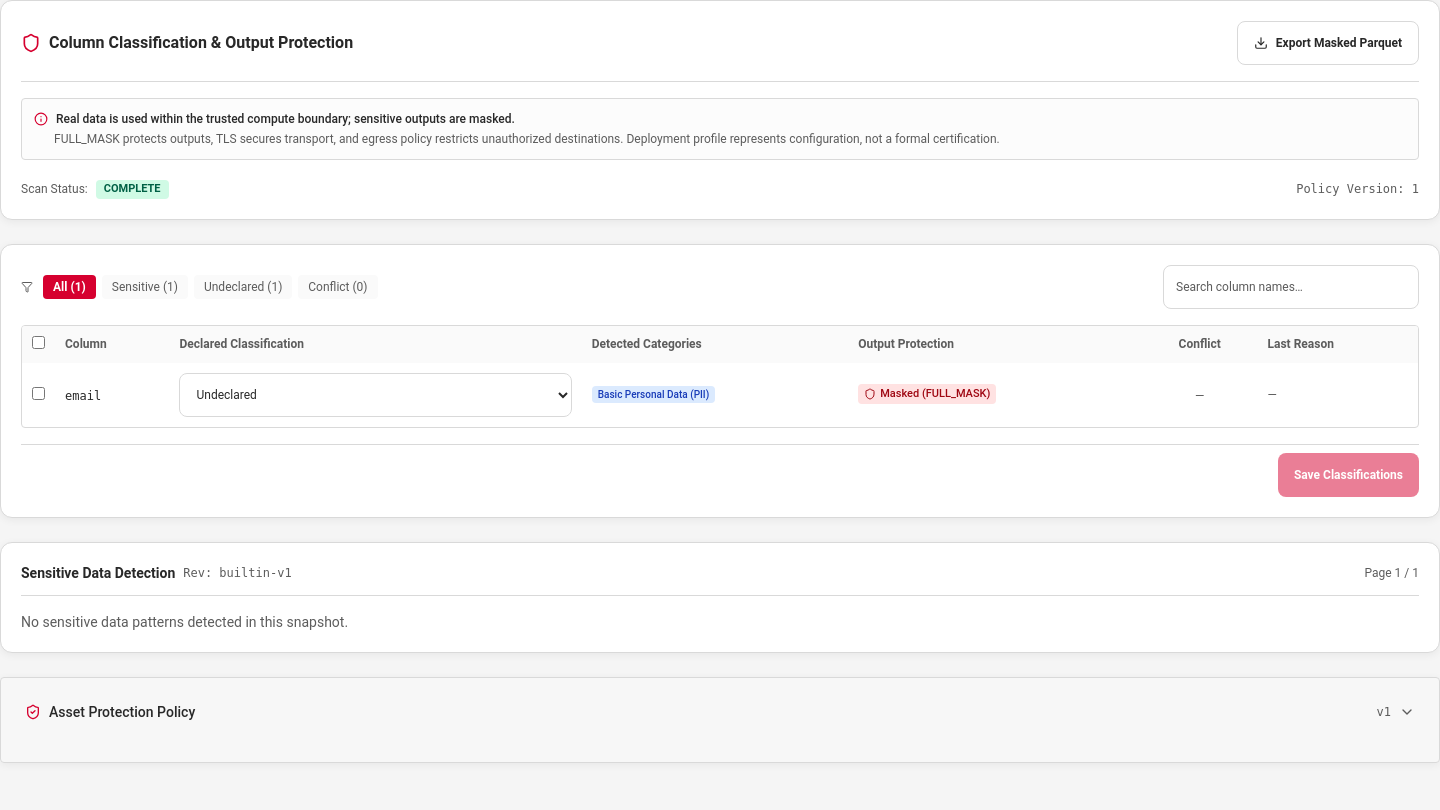
Scenario: surfaces version conflict alert and preserves draft changes
Click the checkbox named "Select email" at (38, 393), box [32,387,45,400]
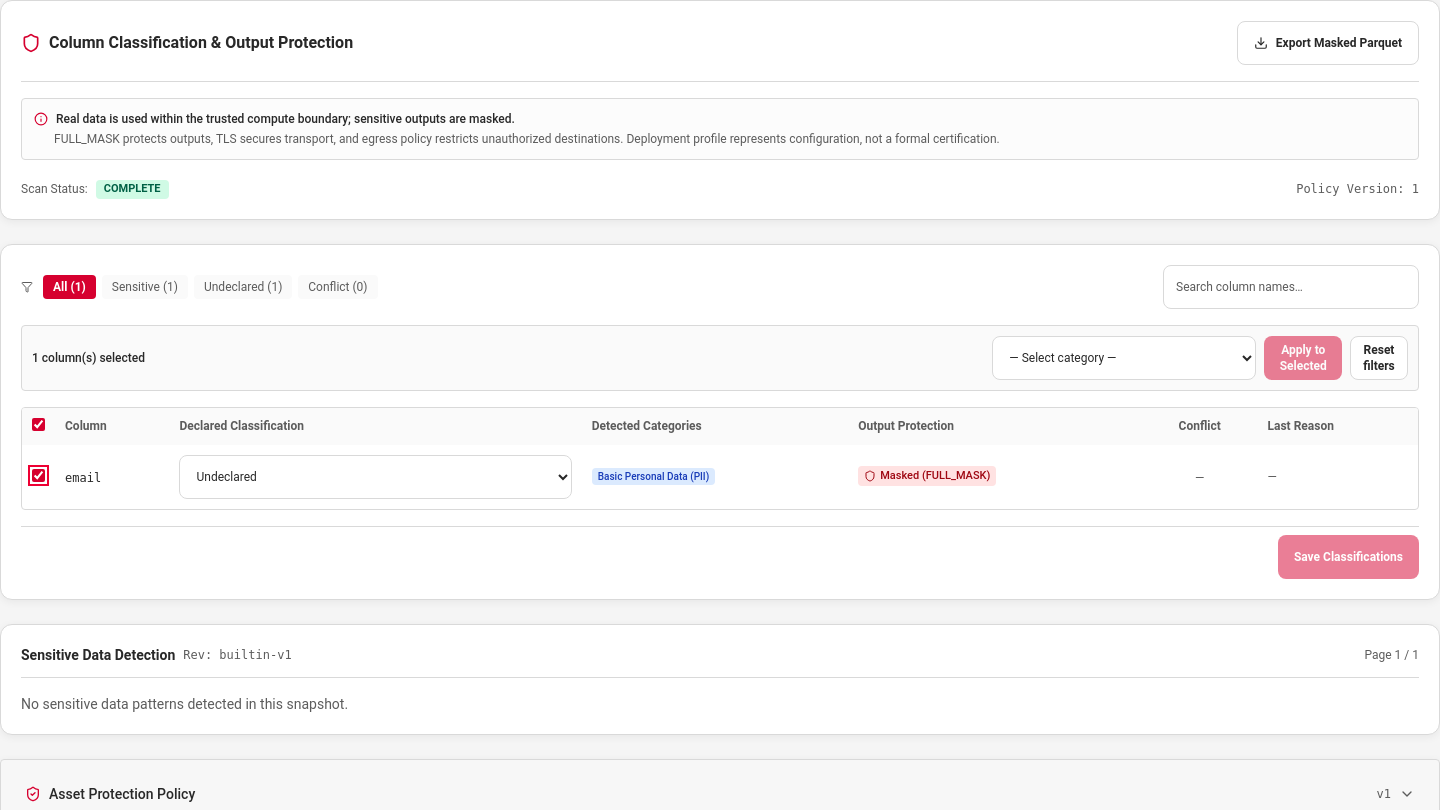
Select "Confidential Business Data" in the dropdown named "Declared Classification" at (1124, 358), box [992,336,1256,380]
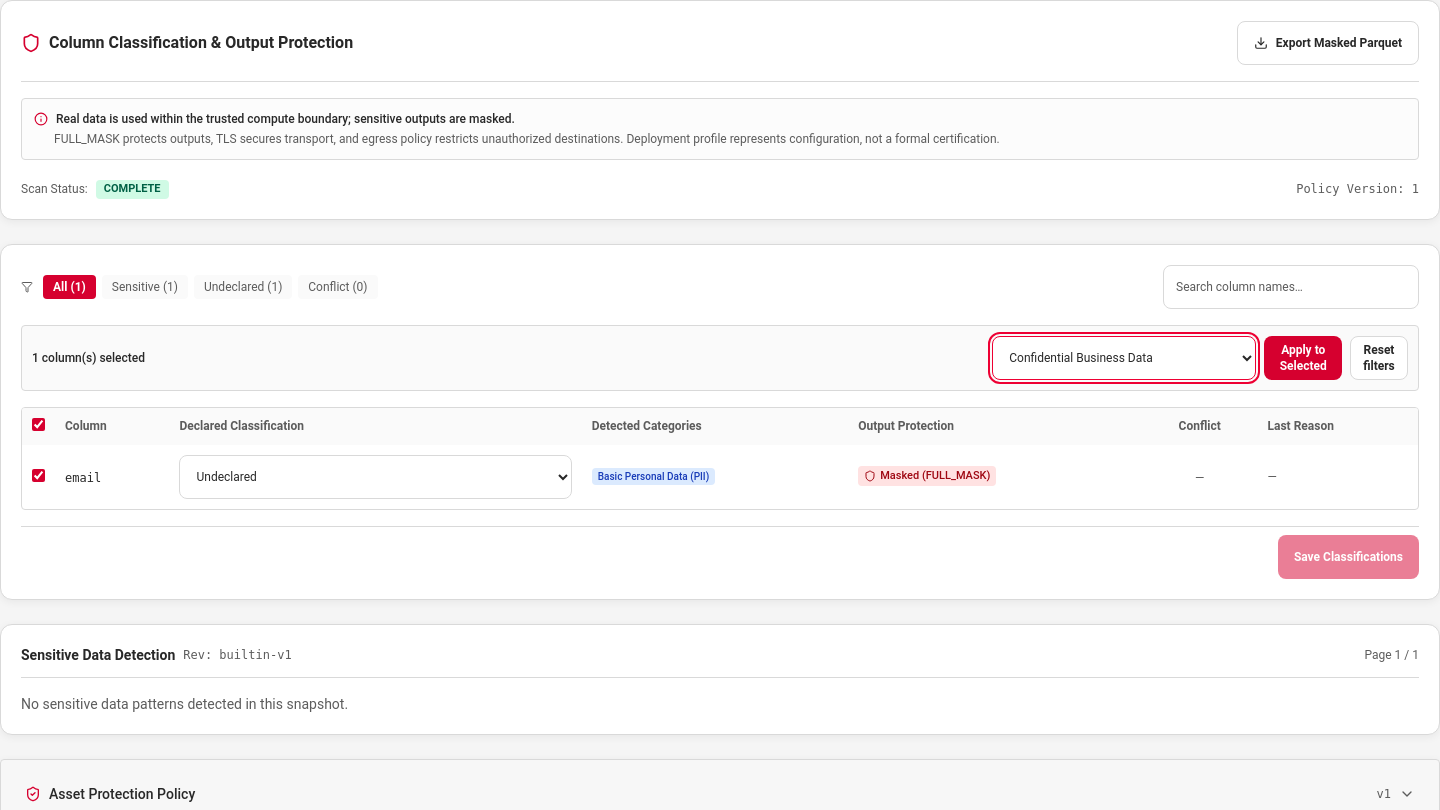
Click the button "Apply to Selected" at (1303, 358), box [1264,336,1342,380]
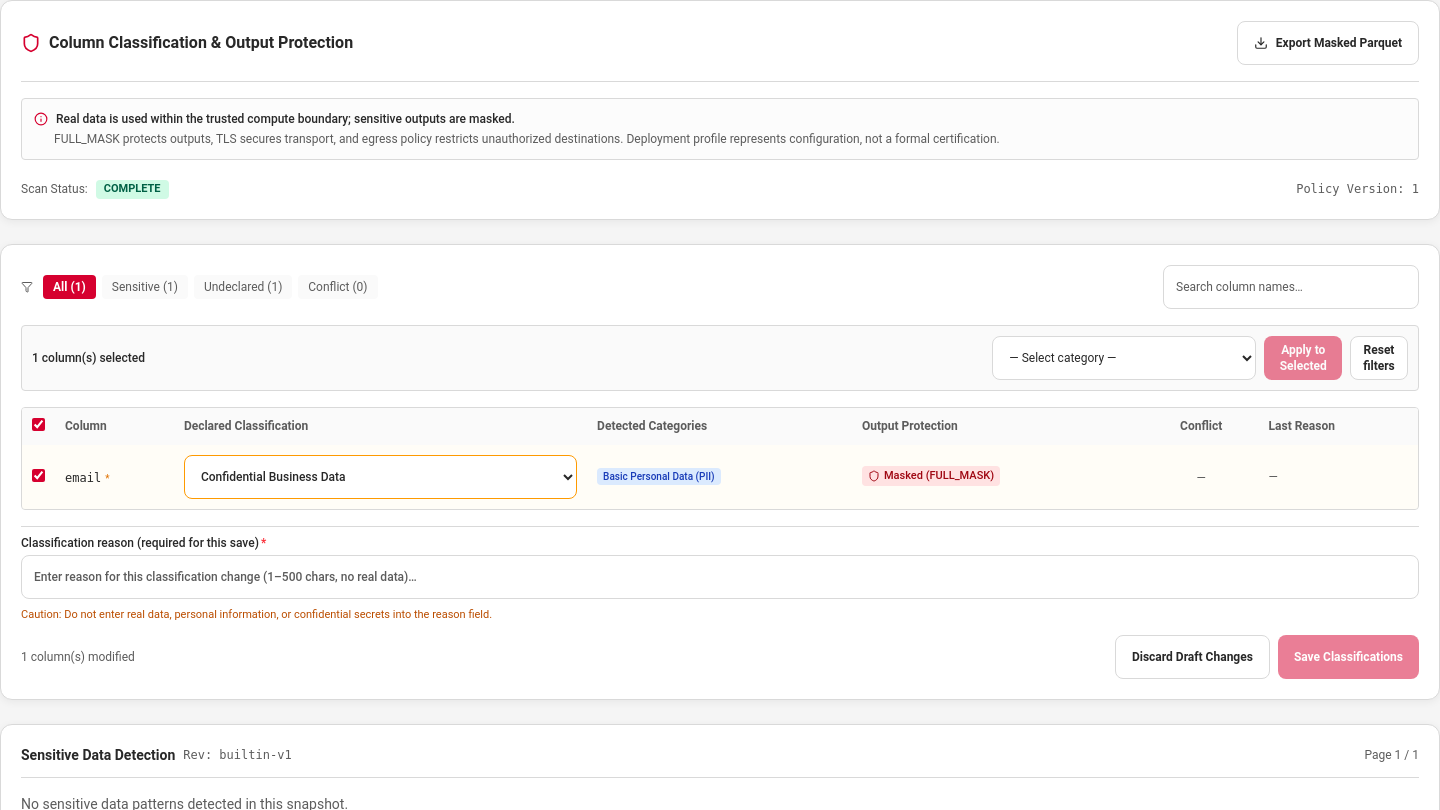
Type "Concurrent edit test" into the field with placeholder "Enter reason for this classification change" at (720, 577), box [21,555,1419,599]
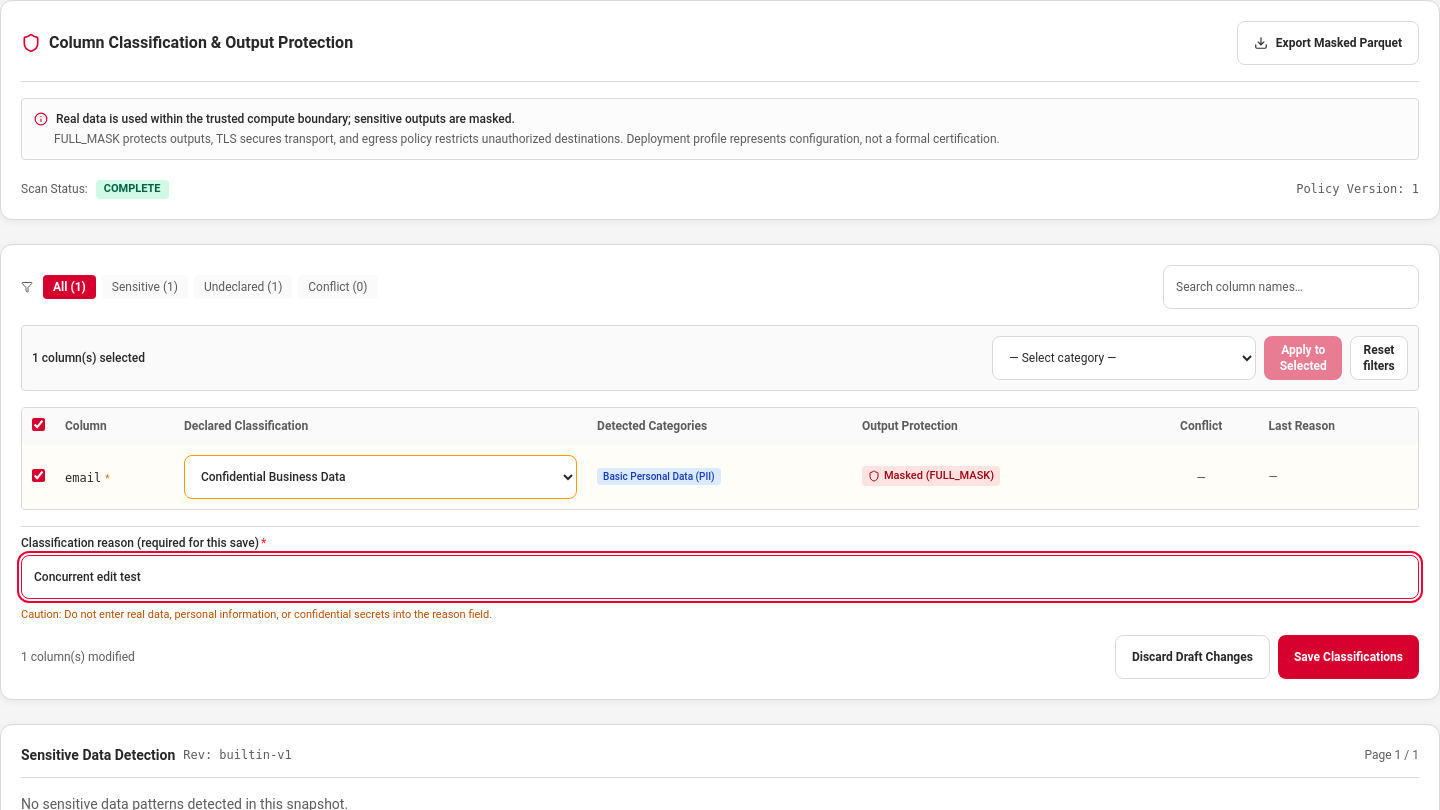
Click the button "Save Classifications" at (1348, 657), box [1278,635,1419,679]
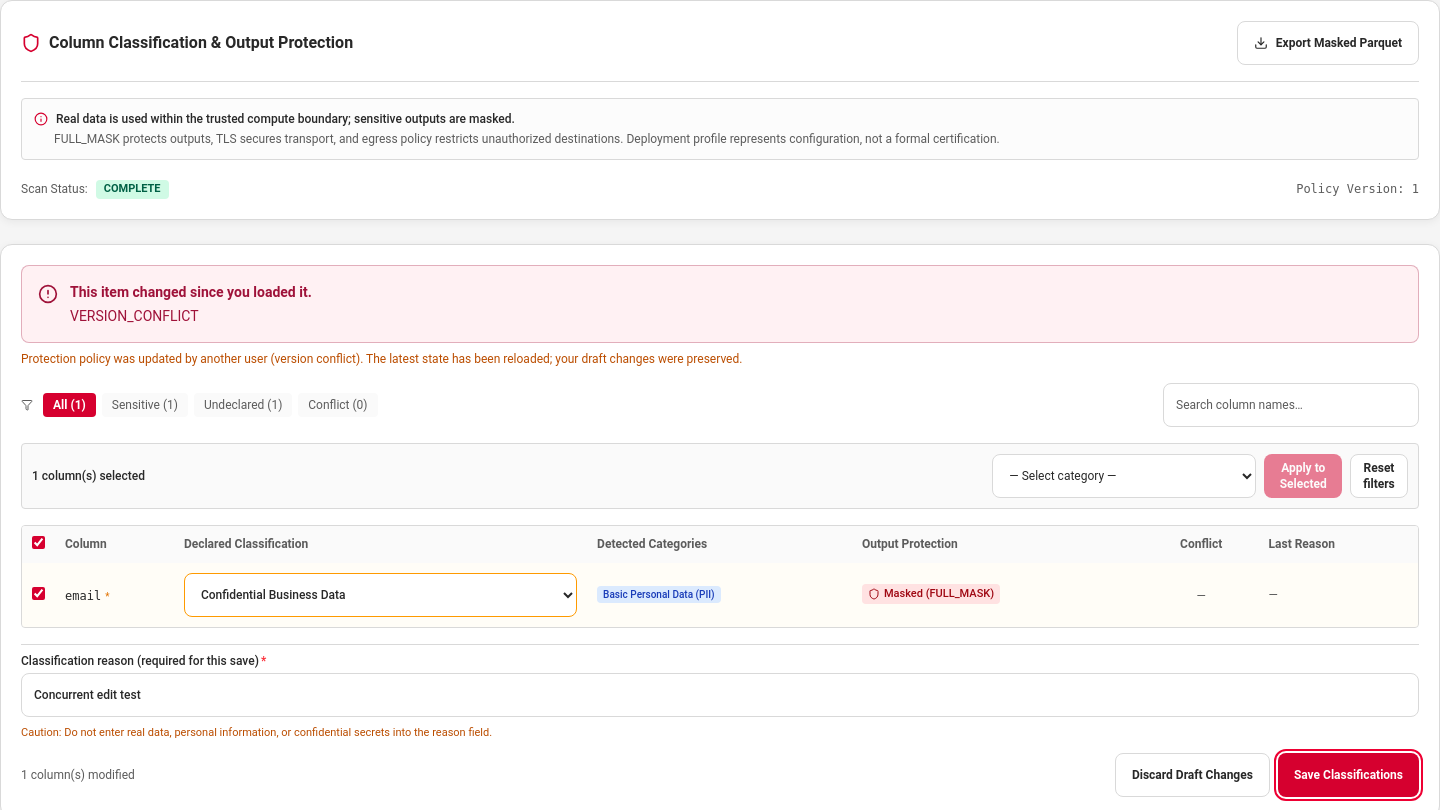
expect the button "Discard Draft Changes" is shown: met, box [1115,753,1270,797]
expect the text "Protection policy was updated by another user (version conflict)" is shown: met, box [21,352,742,366]
